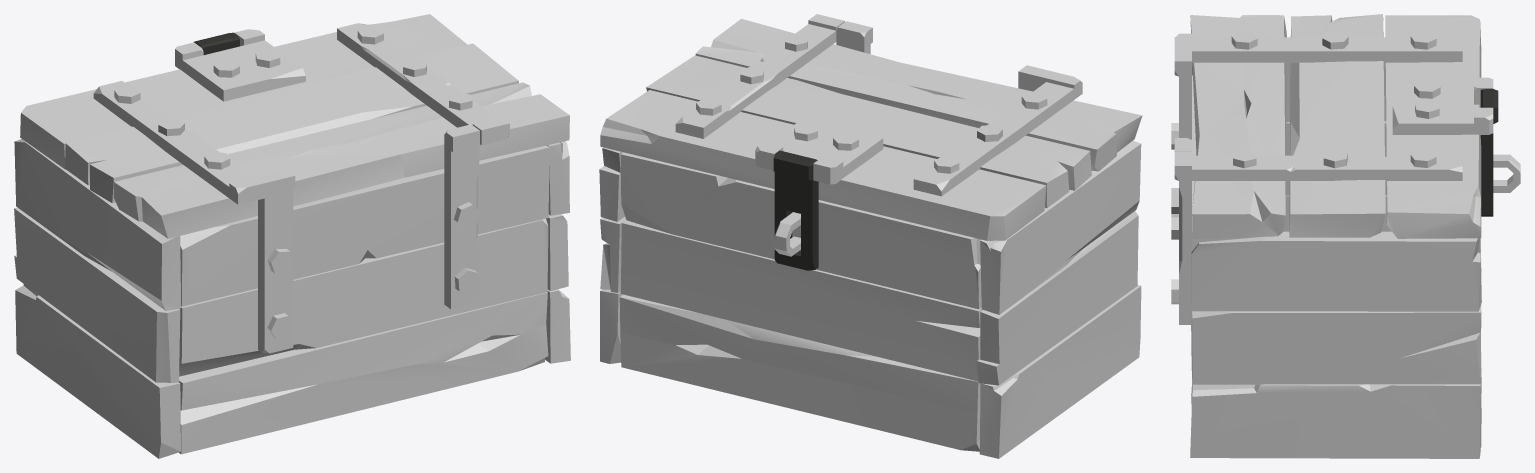
File: NGF_Crate_01.fbx
The picture shows the model from 3 angles, left to right: view 1: azimuth 30°, elevation 25°; view 2: azimuth 150°, elevation 25°; view 3: azimuth 270°, elevation 25°; orthographic projection. The views are drawn at different scales.
Parts seen in each view (by area): view 1: NGF_Crate_01, NGF_Lid_of_the_Crate_01, NGF_Crate_lock_01; view 2: NGF_Crate_01, NGF_Lid_of_the_Crate_01, NGF_Crate_lock_01; view 3: NGF_Crate_01, NGF_Lid_of_the_Crate_01, NGF_Crate_lock_01.
Part boxes in pixels (<box>): NGF_Crate_01: <box>14,124,570,458</box>; NGF_Lid_of_the_Crate_01: <box>20,14,569,238</box>; NGF_Crate_lock_01: <box>194,32,239,54</box>; NGF_Crate_01: <box>599,21,1141,458</box>; NGF_Lid_of_the_Crate_01: <box>600,14,1142,240</box>; NGF_Crate_lock_01: <box>773,150,818,270</box>; NGF_Crate_01: <box>1171,47,1520,458</box>; NGF_Lid_of_the_Crate_01: <box>1174,14,1493,238</box>; NGF_Crate_lock_01: <box>1480,89,1498,216</box>.
Bounding box in the file's own units: 0.9908 × 0.6075 × 0.7316.
Materials: 1 (1 with a texture image).
